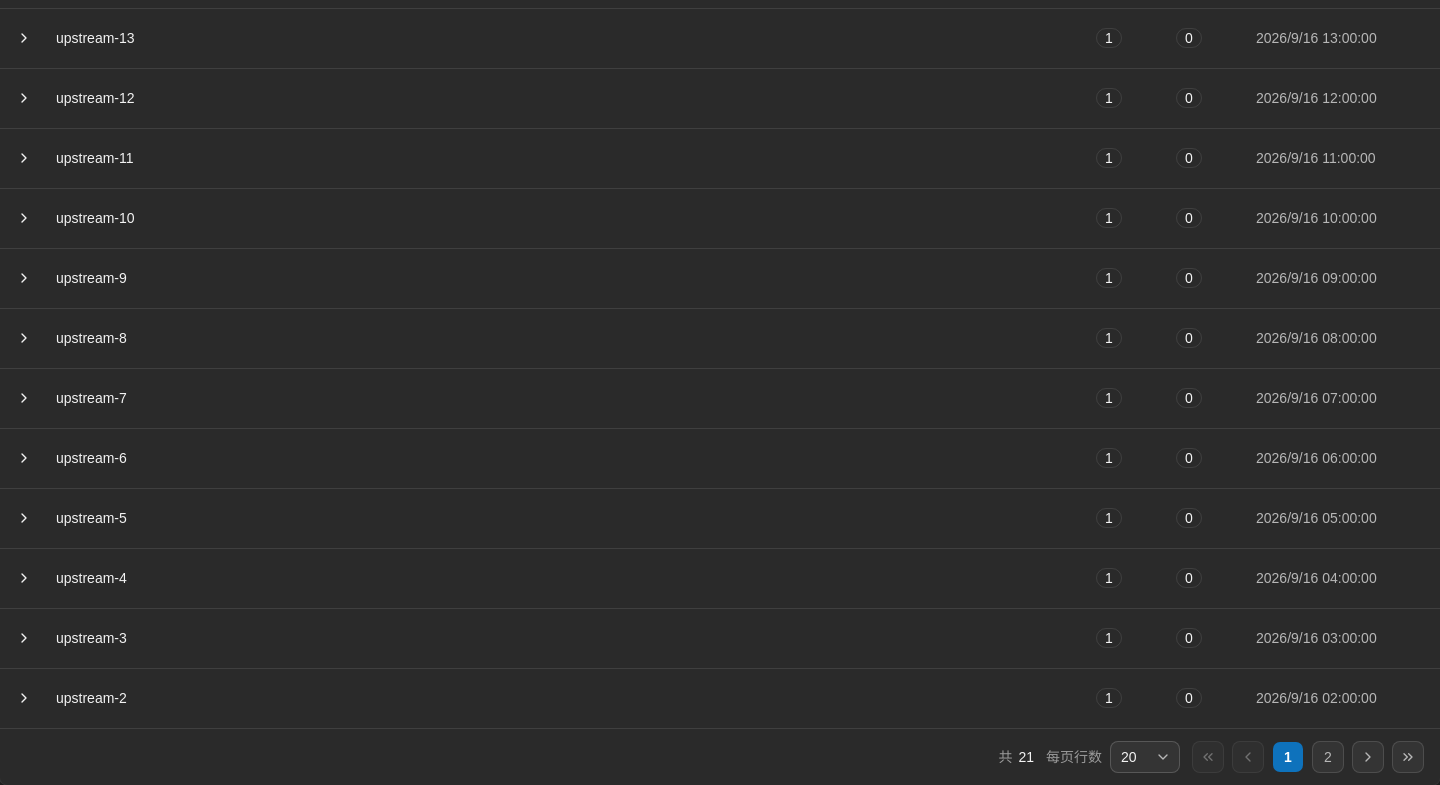
Test: 超过二十个上游时按上游翻页且总数不使用变化条数
This screenshot has width=1440, height=785.
(page scrolled)
Click the button named "转到下一页". click: (1368, 757)
box: [1352,741,1384,773]
(page scrolled)
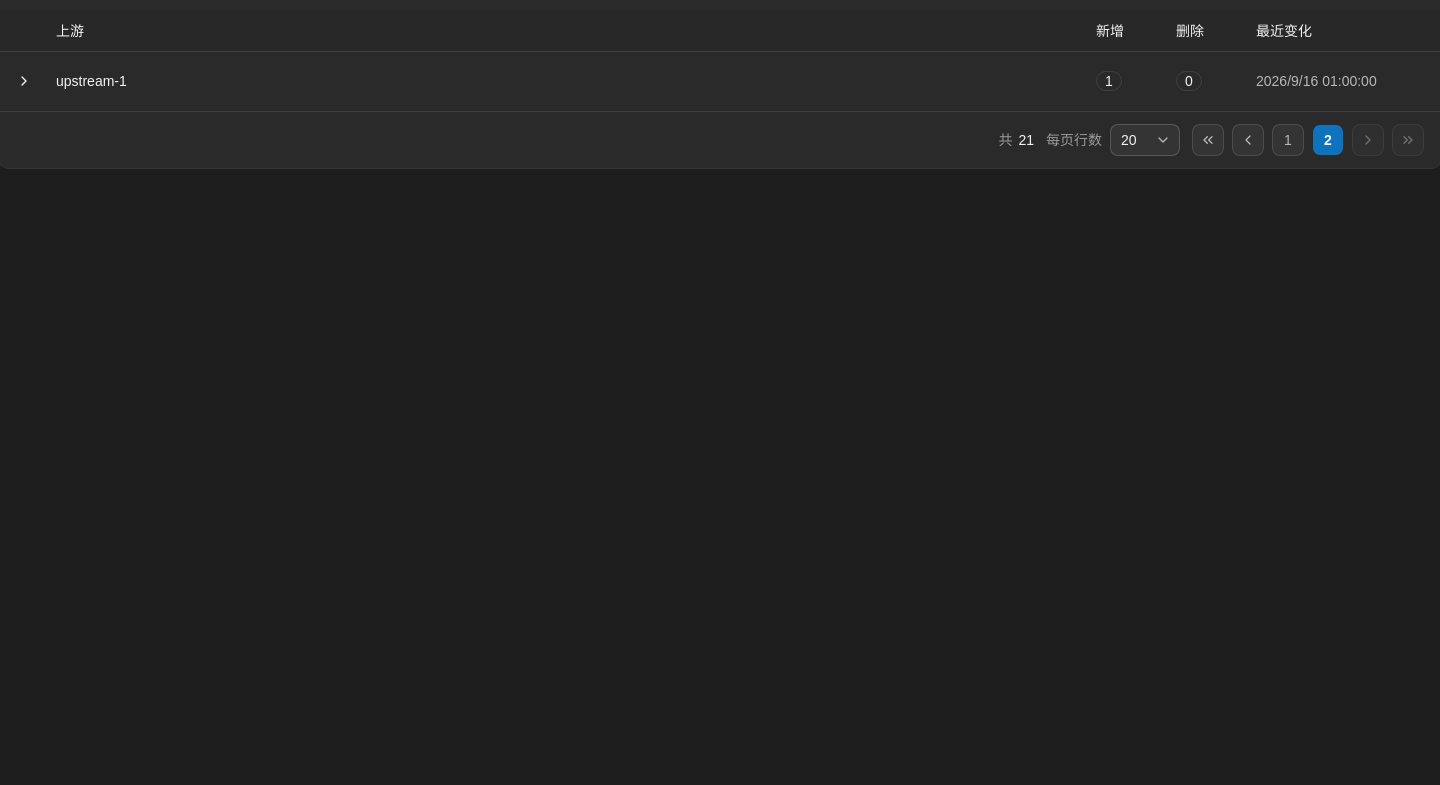
Expected: the text "upstream-1" is shown, [56,73,127,89]
Result: the number of rows is 2 at [0,11,1439,51]; [0,51,1439,111]
Result: the button named "转到下一页" is disabled at [1352,124,1384,156]
